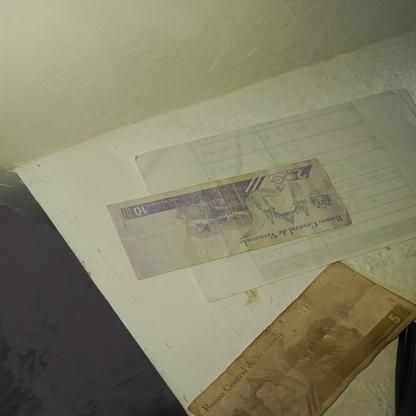five-back-vef: (186, 260, 416, 416)
ten-back-vef: (106, 157, 353, 282)
